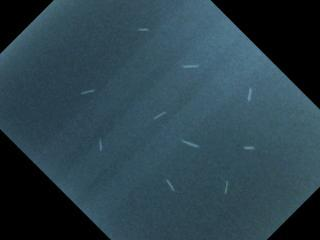scratch: (175, 131, 205, 157), (159, 170, 181, 200), (217, 176, 238, 201), (146, 106, 171, 126), (179, 57, 205, 75), (76, 83, 101, 100), (241, 83, 259, 106), (91, 135, 110, 156), (131, 21, 155, 37), (238, 140, 260, 156)
